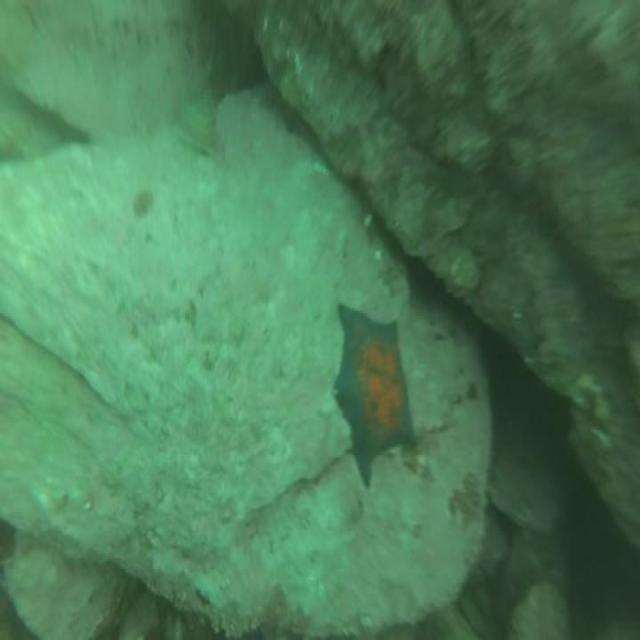starfish: (332, 296, 418, 492)
